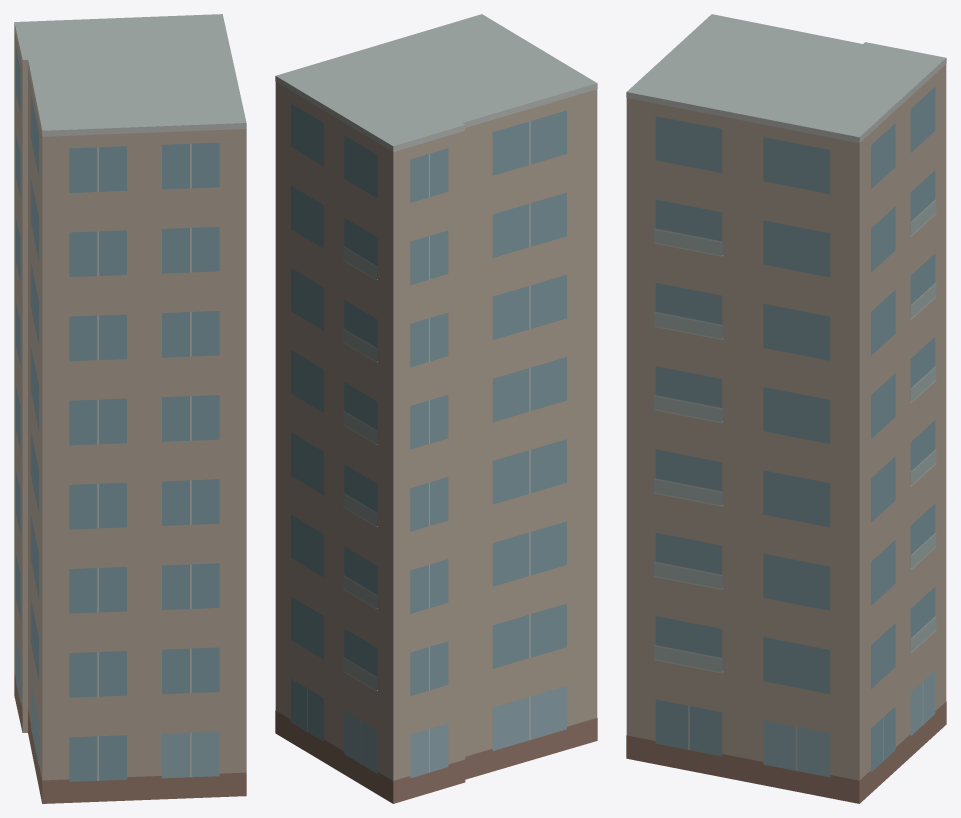
Rendered from survey-upis-32636834.glb.
The picture shows the model from 3 angles, left to right: view 1: azimuth 30°, elevation 25°; view 2: azimuth 150°, elevation 25°; view 3: azimuth 270°, elevation 25°; orthographic projection. The views are drawn at different scales.
Visible parts, largest first — view 1: survey-upis-32636834.tmp; view 2: survey-upis-32636834.tmp; view 3: survey-upis-32636834.tmp.
Boxes of the visible parts, x1=… form: survey-upis-32636834.tmp: x1=14, y1=14, x2=246, y2=803; survey-upis-32636834.tmp: x1=275, y1=14, x2=597, y2=803; survey-upis-32636834.tmp: x1=626, y1=14, x2=946, y2=803.
Bounding box in the file's own units: 10.83 × 27.3 × 11.88.
